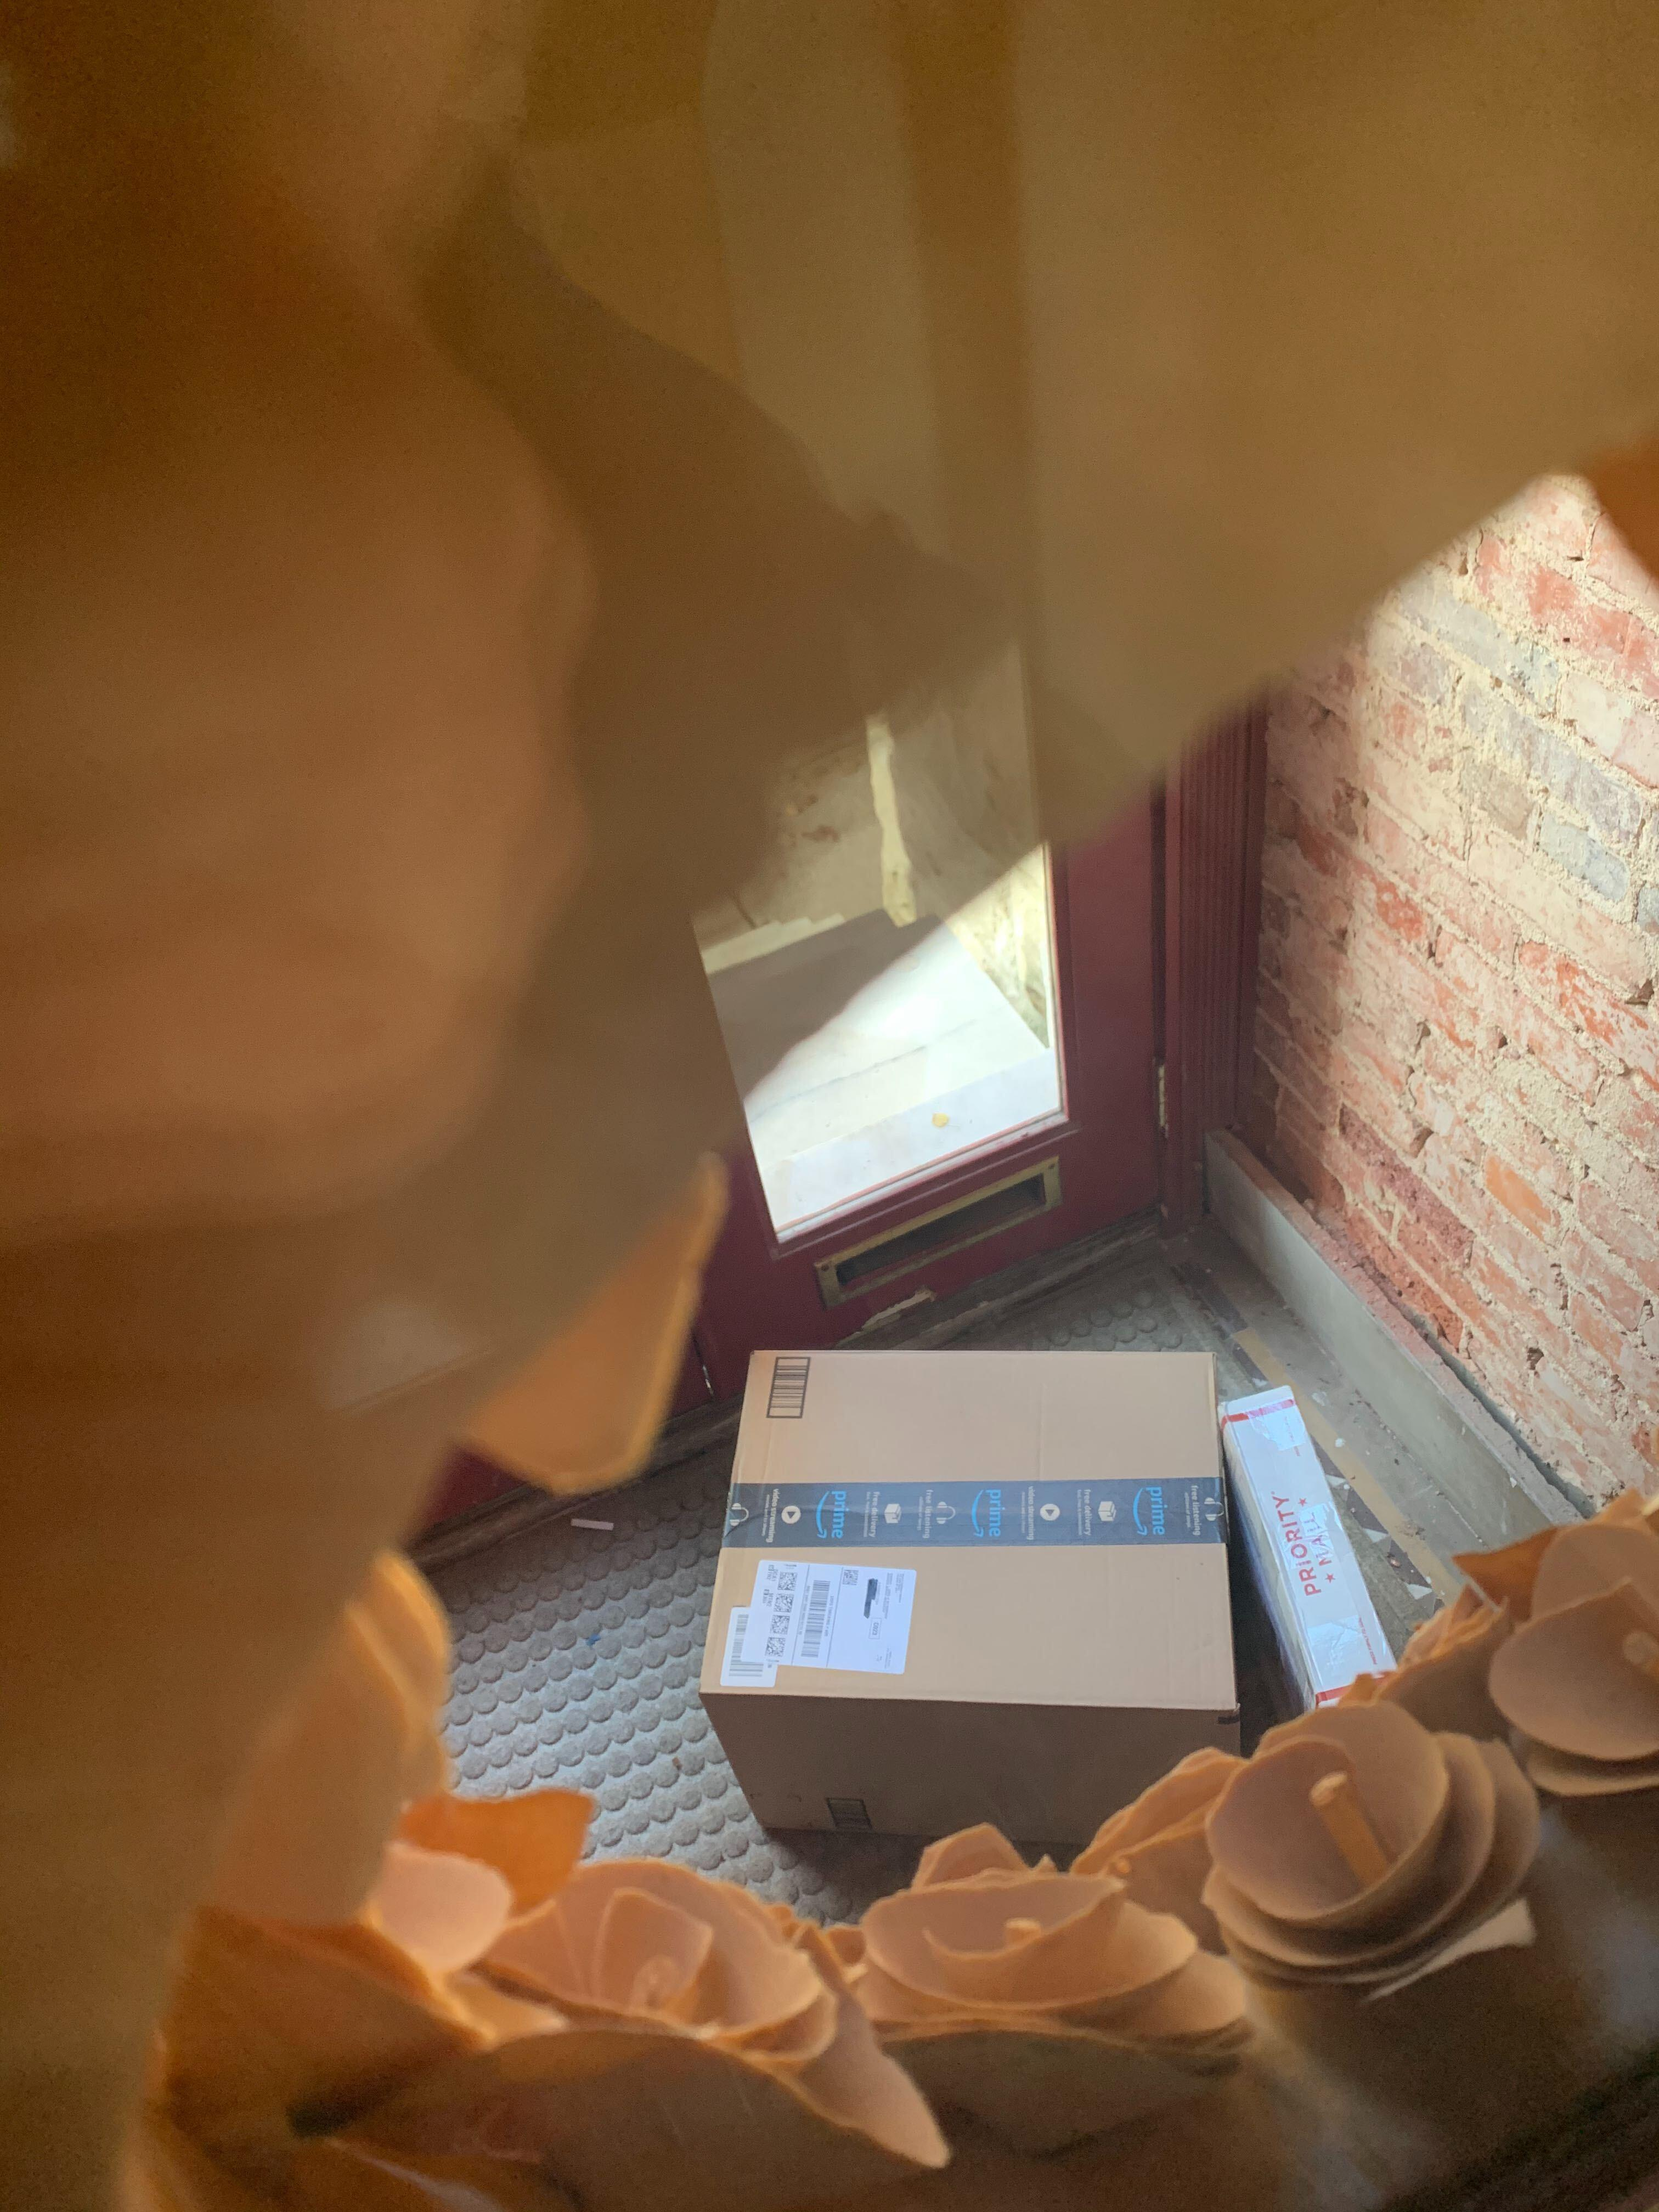package: (701, 1343, 1236, 1843), (1222, 1383, 1405, 1709)
